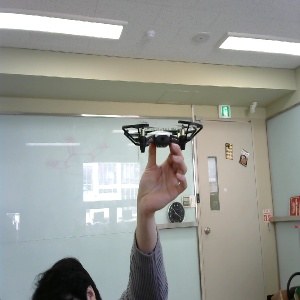Drone: (121, 110, 206, 166), (228, 139, 250, 162)
